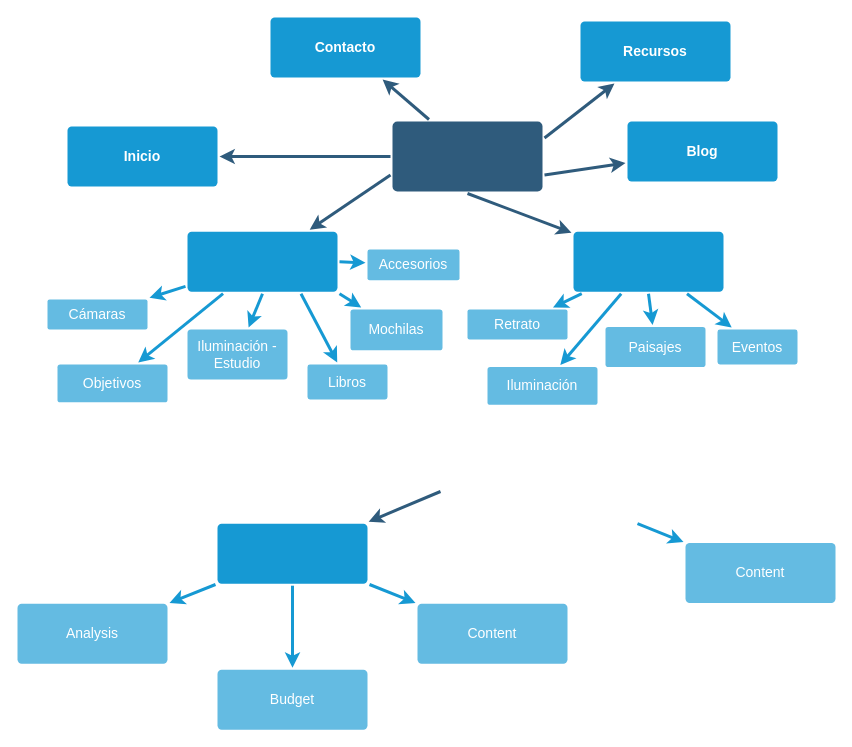
The diagram is 852 pixels wide and 747 high, and some of its shapes have lost their labels. The centre of each missing label's shape, as x and y in pixels:
Cursos: the point at 648,261
Organization: the point at 292,553
PhotoLazo: the point at 467,156
Productos: the point at 262,261
